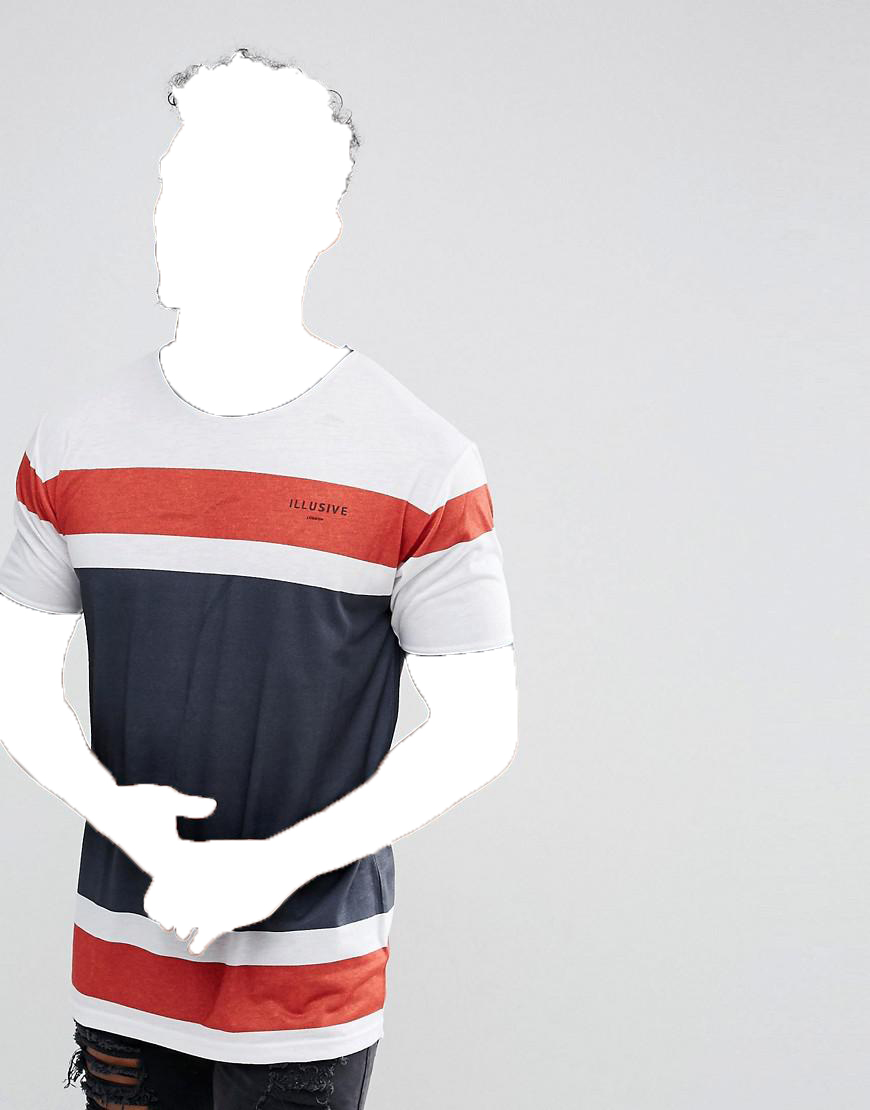teeshirt: (24, 339, 522, 1064)
